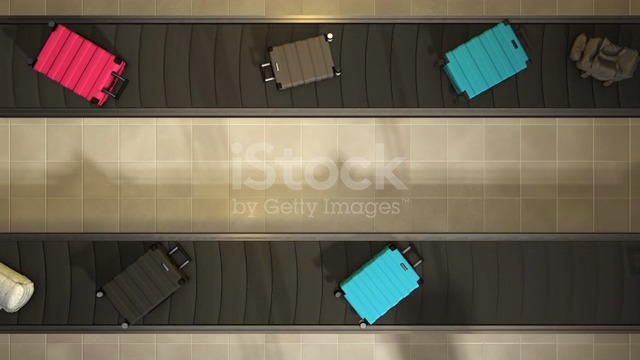Bag: (18, 21, 140, 113), (92, 243, 200, 330), (331, 240, 435, 328), (437, 19, 537, 109), (254, 30, 350, 94), (0, 263, 37, 322)
Handle: (99, 68, 134, 103), (167, 242, 195, 271), (402, 243, 426, 275), (256, 58, 276, 83)
